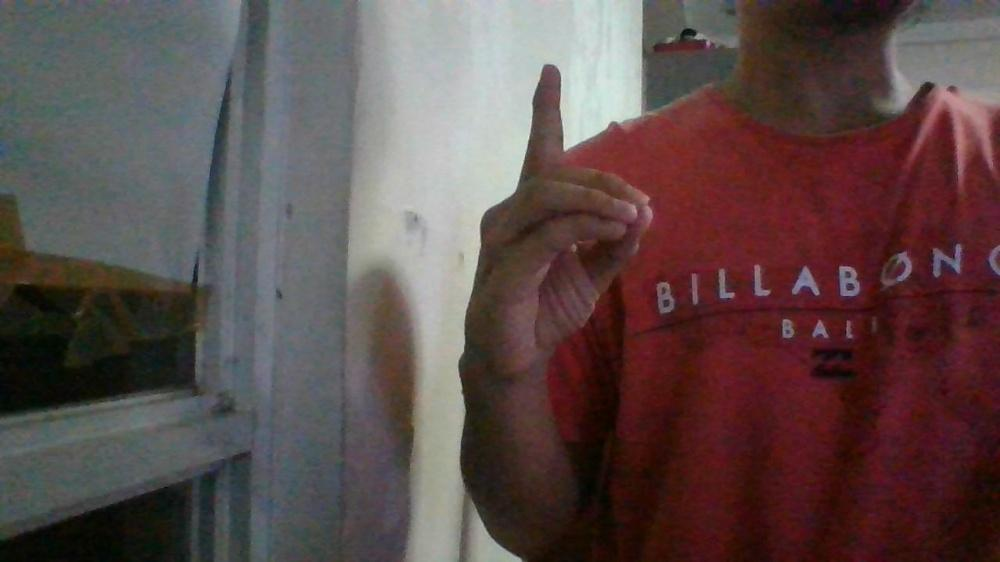d: (457, 60, 655, 380)
